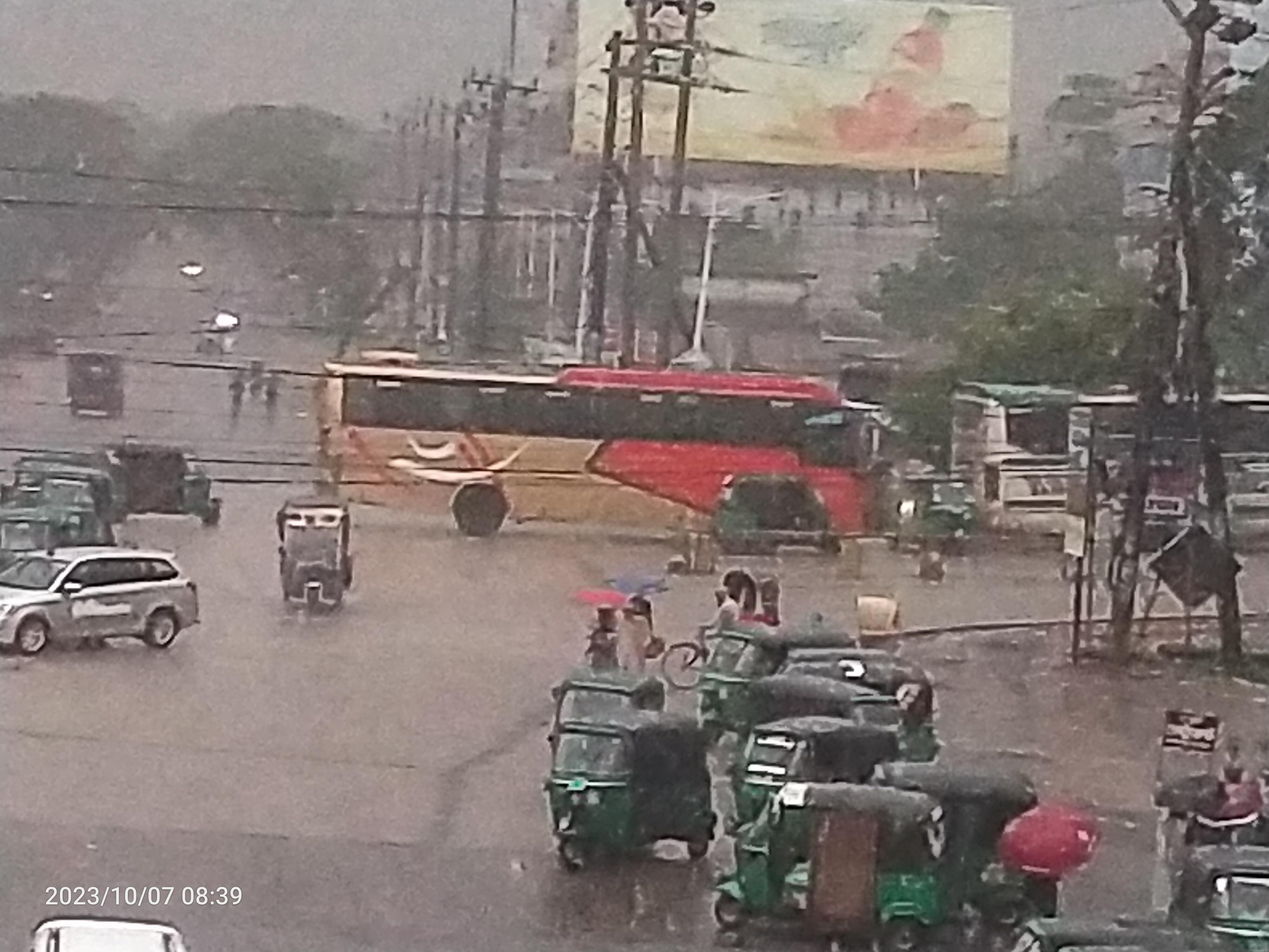Bus: (292, 338, 911, 597), (929, 337, 1180, 550), (1055, 382, 1269, 575)
Car: (0, 532, 230, 686), (255, 477, 390, 645)
Truck: (47, 335, 128, 424)
